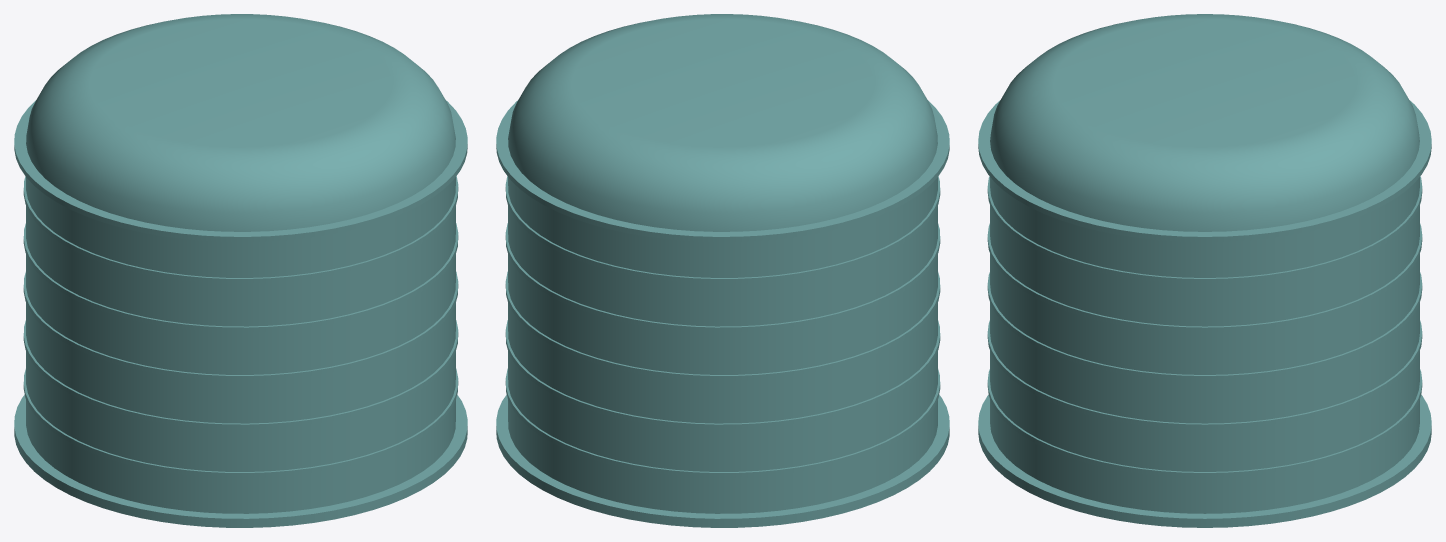
File: SM_Shell.fbx
3 views of the same model, side by side, from view 1: azimuth 30°, elevation 25°; view 2: azimuth 150°, elevation 25°; view 3: azimuth 270°, elevation 25° (orthographic).
Visible parts, largest first — view 1: SM_Shell; view 2: SM_Shell; view 3: SM_Shell.
Part boxes in pixels (x1,y1,x2,y2): SM_Shell: (14, 14, 467, 527); SM_Shell: (496, 14, 949, 527); SM_Shell: (978, 14, 1431, 527).
Size of the model in its own units: 3.84 by 3.25 by 3.84.
